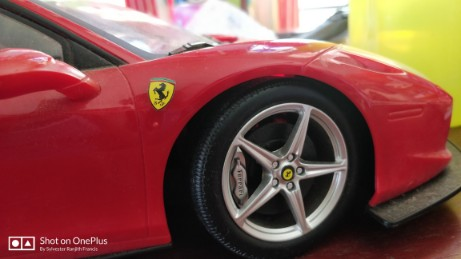aligned_wheel: (205, 95, 362, 252)
